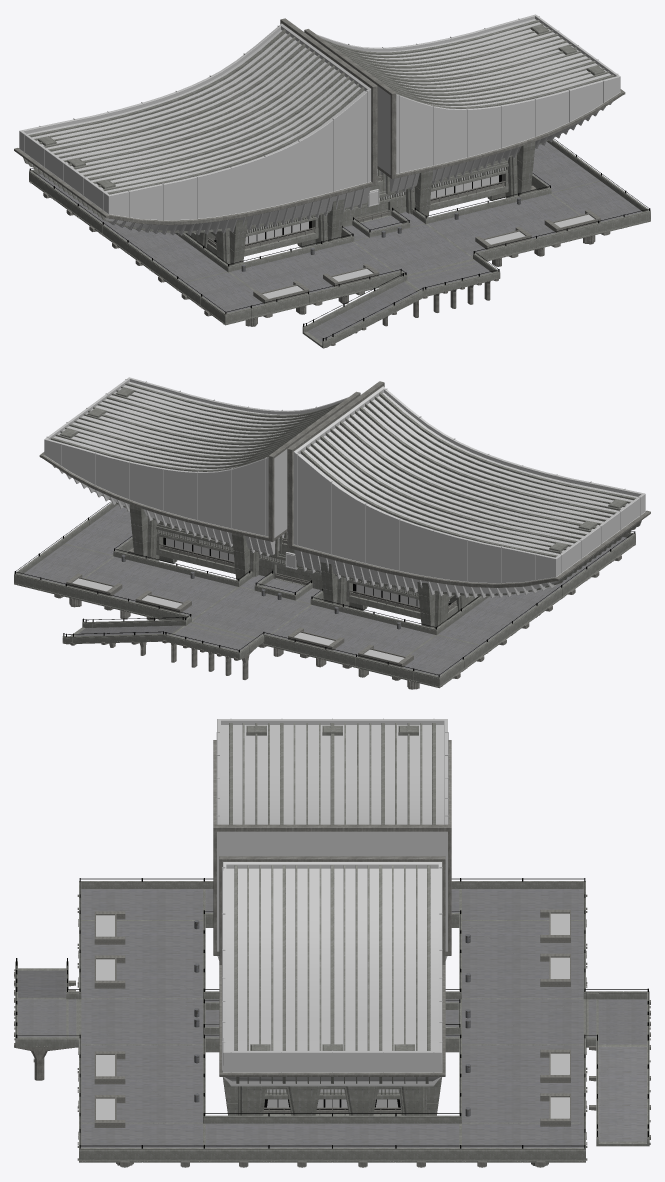
Rendered from brutalist_wood.fbx.
The picture shows the model from 3 angles, top to bottom: view 1: azimuth 30°, elevation 25°; view 2: azimuth 150°, elevation 25°; view 3: azimuth 270°, elevation 25°; orthographic projection. The views are drawn at different scales.
Visible parts, largest first — view 1: M_Bldg_G_Main_Bldg_Upper, M_Bldg_G_ConcFormHoles, M_Bldg_G_StoneFloor, M_Bldg_G_Plaza_Walls_Ramp, M_Bldg_G_Main_Bldg_Upper_Borders, M_Bldg_G_LG_Support, M_Bldg_G_Ribs_bLINE_Brown, M_Bldg_G_Main_Bldg_Lower, M_Bldg_G_ConcFormNoHoles, M_Bldg_G_Plaza_Supports_Details, M_Bldg_G_Plaza_Rails, M_Bldg_G_WindowsGlass (+2 smaller); view 2: M_Bldg_G_Main_Bldg_Upper, M_Bldg_G_ConcFormHoles, M_Bldg_G_StoneFloor, M_Bldg_G_Plaza_Walls_Ramp, M_Bldg_G_Main_Bldg_Upper_Borders, M_Bldg_G_LG_Support, M_Bldg_G_Ribs_bLINE_Brown, M_Bldg_G_Main_Bldg_Lower, M_Bldg_G_ConcFormNoHoles, M_Bldg_G_Plaza_Supports_Details, M_Bldg_G_Plaza_Rails, M_Bldg_G_WindowsGlass (+2 smaller); view 3: M_Bldg_G_StoneFloor, M_Bldg_G_Main_Bldg_Upper, M_Bldg_G_Plaza_Walls_Ramp, M_Bldg_G_ConcFormHoles, M_Bldg_G_Main_Bldg_Upper_Borders, M_Bldg_G_ConcFormNoHoles, M_Bldg_G_LG_Support, M_Bldg_G_Plaza_Rails, M_Bldg_G_Water, M_Bldg_G_ConcFormHoles.001, M_Bldg_G_Ribs_bLINE_Brown, M_Bldg_G_Plaza_Supports_Details (+3 smaller).
Boxes of the visible parts, box(x1,y1,x2,y2) form: M_Bldg_G_Main_Bldg_Upper: box(19, 14, 620, 230); M_Bldg_G_ConcFormHoles: box(23, 20, 614, 233); M_Bldg_G_StoneFloor: box(37, 141, 642, 342); M_Bldg_G_Plaza_Walls_Ramp: box(29, 139, 650, 348); M_Bldg_G_Main_Bldg_Upper_Borders: box(14, 18, 625, 225); M_Bldg_G_LG_Support: box(185, 141, 535, 265); M_Bldg_G_Ribs_bLINE_Brown: box(24, 16, 618, 235); M_Bldg_G_Main_Bldg_Lower: box(187, 159, 508, 256); M_Bldg_G_ConcFormNoHoles: box(207, 175, 600, 303); M_Bldg_G_Plaza_Supports_Details: box(29, 181, 649, 347); M_Bldg_G_Plaza_Rails: box(29, 138, 650, 341); M_Bldg_G_WindowsGlass: box(215, 167, 505, 243); M_Bldg_G_Main_Bldg_Upper: box(44, 377, 645, 593); M_Bldg_G_ConcFormHoles: box(50, 382, 641, 596); M_Bldg_G_StoneFloor: box(22, 504, 627, 676); M_Bldg_G_Plaza_Walls_Ramp: box(14, 502, 635, 688); M_Bldg_G_Main_Bldg_Upper_Borders: box(39, 381, 650, 587); M_Bldg_G_LG_Support: box(129, 504, 479, 628); M_Bldg_G_Ribs_bLINE_Brown: box(46, 379, 640, 598); M_Bldg_G_Main_Bldg_Lower: box(156, 522, 478, 619); M_Bldg_G_ConcFormNoHoles: box(66, 538, 457, 667); M_Bldg_G_Plaza_Supports_Details: box(15, 544, 635, 689); M_Bldg_G_Plaza_Rails: box(14, 502, 635, 677); M_Bldg_G_WindowsGlass: box(159, 530, 449, 606); M_Bldg_G_StoneFloor: box(18, 889, 646, 1147); M_Bldg_G_Main_Bldg_Upper: box(217, 719, 447, 1081); M_Bldg_G_Plaza_Walls_Ramp: box(15, 881, 649, 1162); M_Bldg_G_ConcFormHoles: box(229, 723, 435, 1094); M_Bldg_G_Main_Bldg_Upper_Borders: box(213, 740, 451, 1076); M_Bldg_G_ConcFormNoHoles: box(94, 909, 570, 1127); M_Bldg_G_LG_Support: box(223, 1077, 441, 1115); M_Bldg_G_Plaza_Rails: box(16, 878, 648, 1148); M_Bldg_G_Water: box(96, 913, 569, 1119); M_Bldg_G_ConcFormHoles.001: box(18, 889, 646, 1147); M_Bldg_G_Ribs_bLINE_Brown: box(216, 718, 448, 1086); M_Bldg_G_Plaza_Supports_Details: box(14, 894, 650, 1167).
Size of the model in its own units: 6640 by 2157 by 5443.
